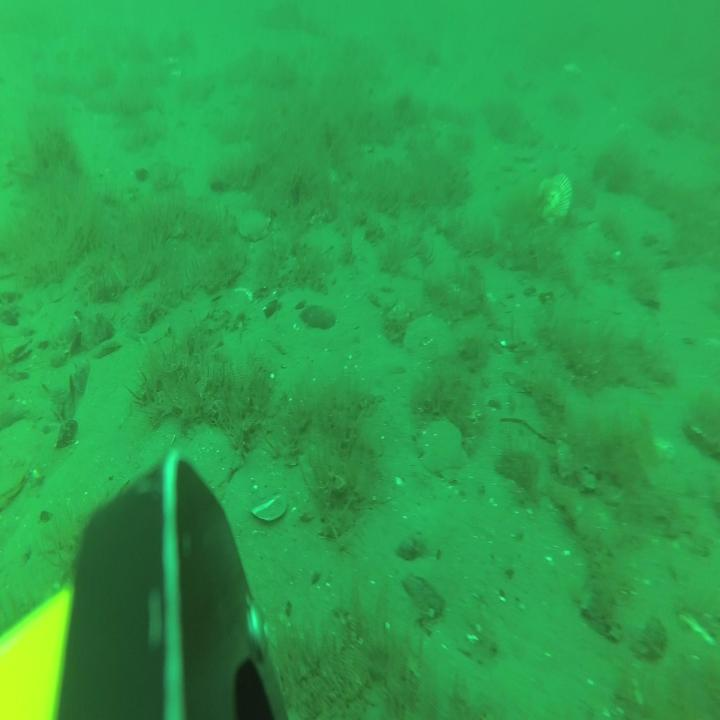scallop: (182, 424, 242, 502), (0, 418, 37, 513), (418, 420, 468, 484), (406, 311, 454, 364), (537, 171, 573, 226), (221, 188, 254, 221), (237, 210, 271, 242)
